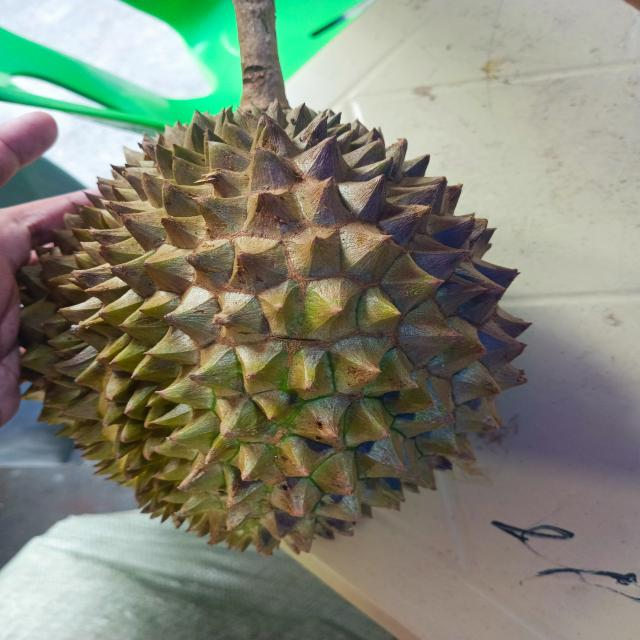mature: (0, 76, 588, 621)
